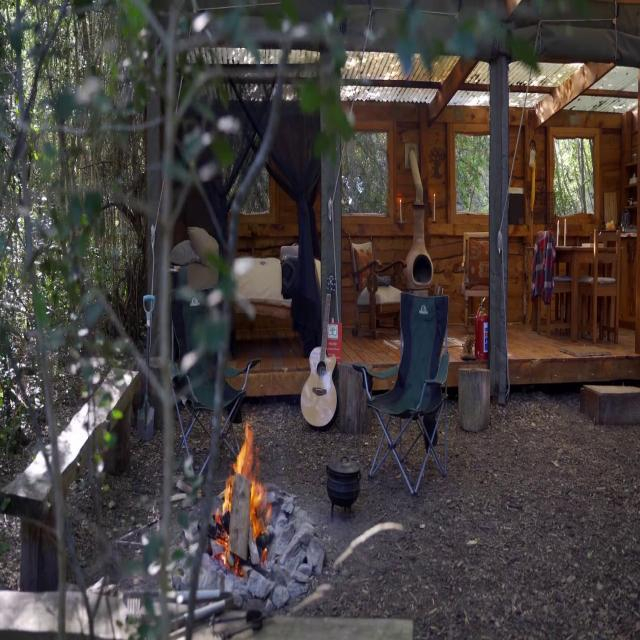Fire: (215, 412, 268, 564)
